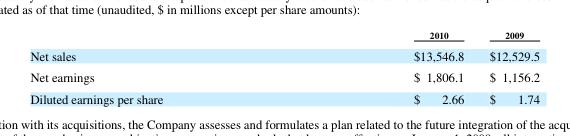table: (29, 29, 539, 105)
table column: (29, 29, 287, 105), (287, 29, 476, 105), (476, 29, 539, 105)
table column header: (29, 29, 539, 43)
table row: (29, 43, 539, 66), (29, 66, 539, 87), (29, 87, 539, 105), (29, 29, 539, 43)
